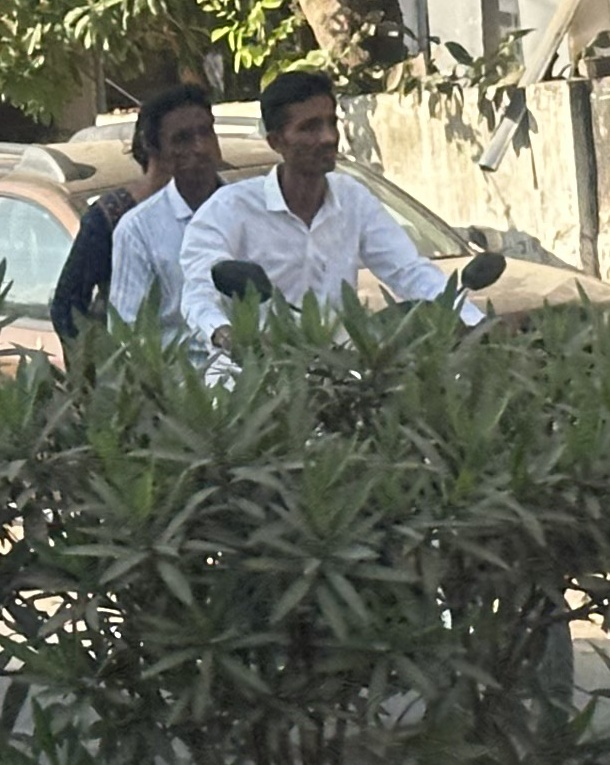NoHelmet: (253, 64, 355, 187), (128, 89, 226, 190)
